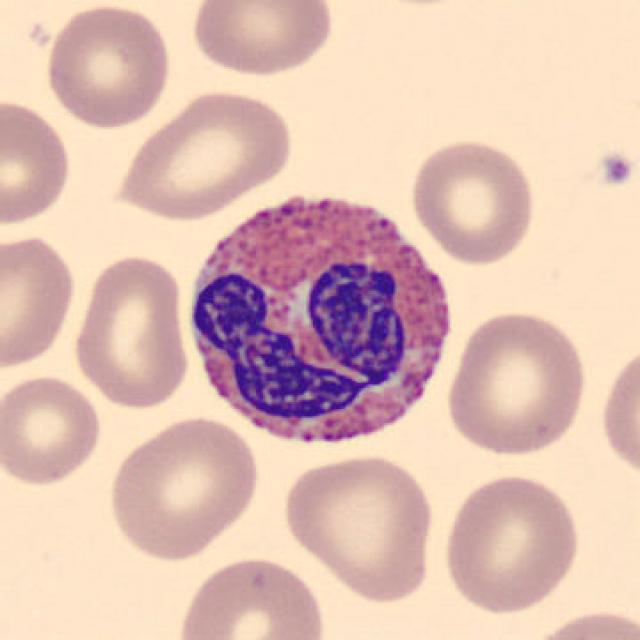Eosinophil: (174, 171, 462, 464)
Platelets: (594, 146, 636, 192)
RBC: (108, 85, 297, 222), (277, 450, 441, 604), (103, 412, 263, 562), (443, 307, 592, 458), (439, 469, 583, 617), (69, 250, 192, 412), (407, 134, 539, 266), (41, 2, 176, 130), (174, 552, 329, 640), (0, 372, 105, 490), (185, 0, 338, 79), (0, 231, 80, 372), (0, 93, 75, 230), (596, 335, 638, 490), (519, 604, 638, 640)
